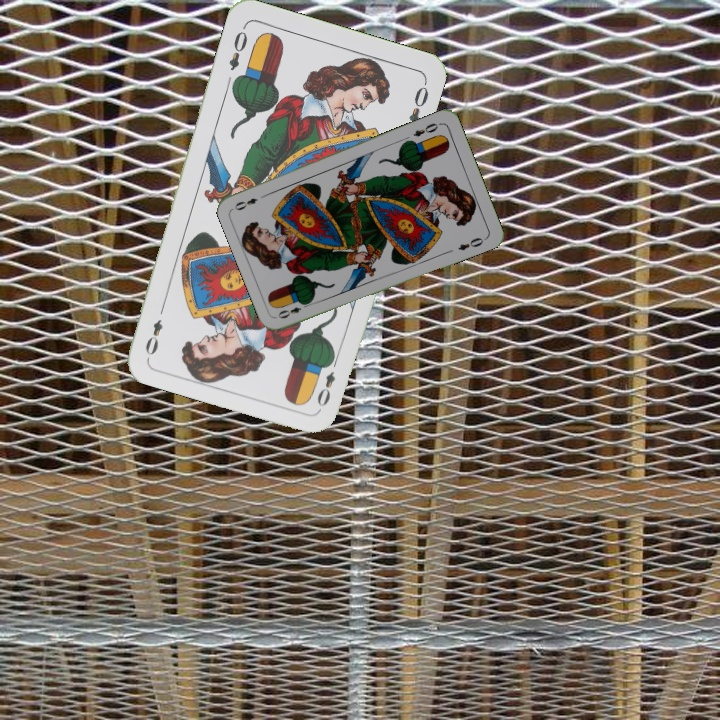EO: (313, 353, 341, 409), (224, 22, 251, 73), (274, 298, 313, 321), (409, 119, 444, 139)
